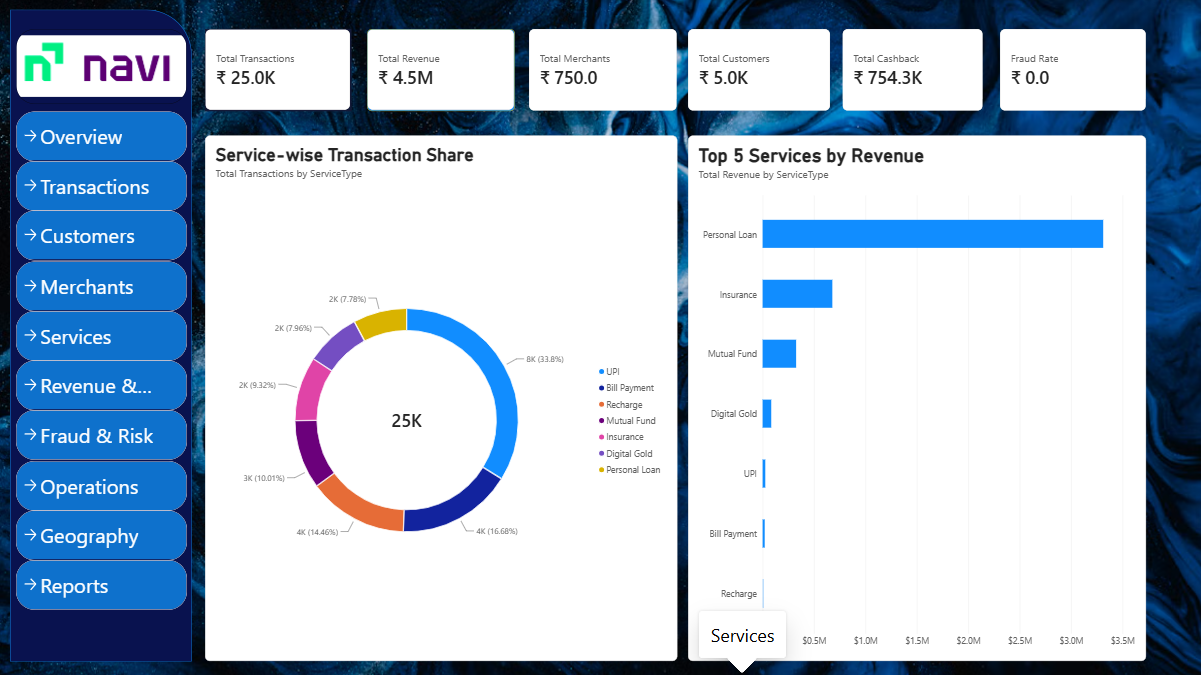

This screenshot's page, from the dashboard's own definition file:
{"tool":"powerbi","page":{"name":"Services","canvas":[1920,1080],"ordinal":5},"visuals":[{"type":"cardVisual","fields":{"Data":["_Measures.Total Transactions"]},"box":[328.8,48.2,232.4,130.4],"z":0},{"type":"cardVisual","fields":{"Data":["_Measures.Total Revenue"]},"box":[586.8,48.2,235.3,130.4],"z":1000},{"type":"cardVisual","fields":{"Data":["_Measures.Total Merchants"]},"box":[844.7,48.2,235.3,130.4],"z":2000},{"type":"cardVisual","fields":{"Data":["_Measures.Total Customers"]},"box":[1097,48.2,226.8,130.4],"z":3000},{"type":"cardVisual","fields":{"Data":["_Measures.Total Cashback"]},"box":[1343.6,48.2,223.9,130.4],"z":4000},{"type":"cardVisual","fields":{"Data":["_Measures.Fraud Rate"]},"box":[1593.1,48.2,232.4,130.4],"z":5000},{"type":"donutChart","title":"Service-wise Transaction Share","fields":{"Category":["FactTransactions.ServiceType"],"Y":["_Measures.Total Transactions"]},"box":[328.8,218.3,751.2,836.2],"z":6000},{"type":"clusteredBarChart","title":"Top 5 Services by Revenue","fields":{"Category":["FactTransactions.ServiceType"],"Y":["_Measures.Total Revenue"]},"box":[1097,218.3,728.5,836.2],"z":8000},{"type":"shape","box":[19.8,17,289.1,1037.5],"z":16000},{"type":"image","box":[28.3,48.2,272.1,119.1],"z":17000},{"type":"actionButton","box":[28.3,178.6,272.1,79.4],"z":18000},{"type":"actionButton","box":[28.3,258,272.1,79.4],"z":19000},{"type":"actionButton","box":[28.3,734.2,272.1,79.4],"z":20000},{"type":"actionButton","box":[28.3,654.8,272.1,79.4],"z":21000},{"type":"actionButton","box":[28.3,575.4,272.1,79.4],"z":22000},{"type":"actionButton","box":[28.3,337.3,272.1,79.4],"z":23000},{"type":"actionButton","box":[28.3,416.7,272.1,79.4],"z":24000},{"type":"actionButton","box":[28.3,496.1,272.1,79.4],"z":25000},{"type":"actionButton","box":[28.3,813.5,272.1,79.4],"z":26000},{"type":"actionButton","box":[28.3,892.9,272.1,79.4],"z":27000}]}

Visuals, with their boxes in screenshot pixels (x1, y1, x2, y2), scaled from the page's 1920x1080 canvas onto the 1201x675 screenshot:
cardVisual - _Measures.Total Transactions: left=206, top=30, right=351, bottom=112
cardVisual - _Measures.Total Revenue: left=367, top=30, right=514, bottom=112
cardVisual - _Measures.Total Merchants: left=528, top=30, right=676, bottom=112
cardVisual - _Measures.Total Customers: left=686, top=30, right=828, bottom=112
cardVisual - _Measures.Total Cashback: left=840, top=30, right=981, bottom=112
cardVisual - _Measures.Fraud Rate: left=997, top=30, right=1142, bottom=112
"Service-wise Transaction Share" donutChart: left=206, top=136, right=676, bottom=659
"Top 5 Services by Revenue" clusteredBarChart: left=686, top=136, right=1142, bottom=659
shape: left=12, top=11, right=193, bottom=659
image: left=18, top=30, right=188, bottom=105
actionButton: left=18, top=112, right=188, bottom=161
actionButton: left=18, top=161, right=188, bottom=211
actionButton: left=18, top=459, right=188, bottom=508
actionButton: left=18, top=409, right=188, bottom=459
actionButton: left=18, top=360, right=188, bottom=409
actionButton: left=18, top=211, right=188, bottom=260
actionButton: left=18, top=260, right=188, bottom=310
actionButton: left=18, top=310, right=188, bottom=360
actionButton: left=18, top=508, right=188, bottom=558
actionButton: left=18, top=558, right=188, bottom=608
